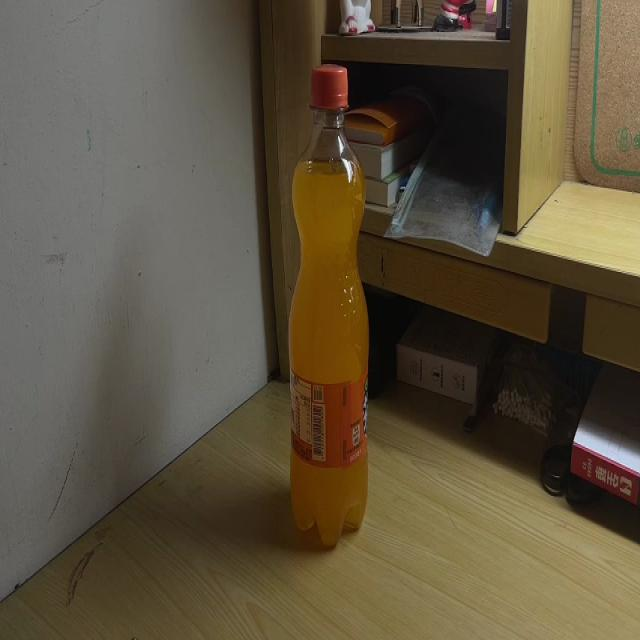Fanta: (291, 62, 371, 550)
